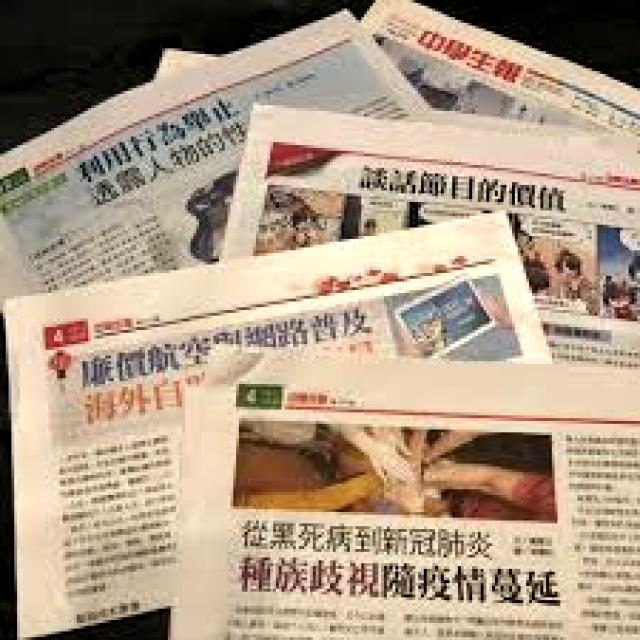Paper: (0, 200, 558, 640), (178, 349, 640, 640), (0, 0, 446, 299), (211, 93, 640, 369)
